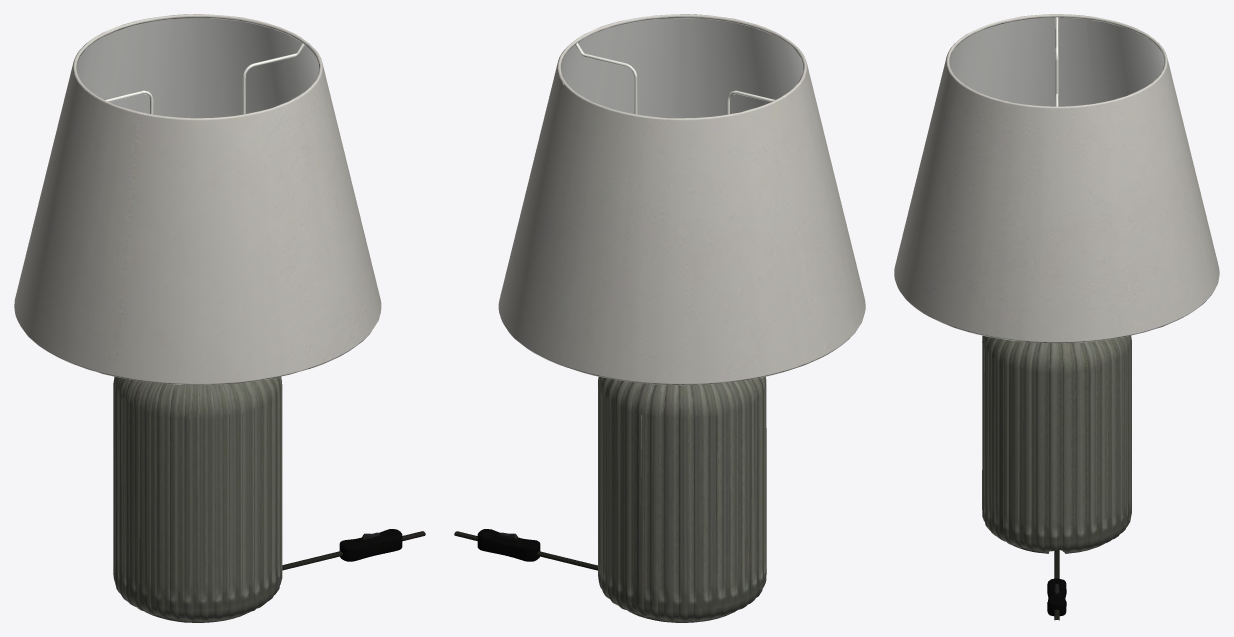
3 renders of one model, left to right at view 1: azimuth 30°, elevation 25°; view 2: azimuth 150°, elevation 25°; view 3: azimuth 270°, elevation 25°, orthographic. The views are drawn at different scales.
Parts seen in each view (by area): view 1: 50450401-SNÃƒâ€“BYAR001; view 2: 50450401-SNÃƒâ€“BYAR001; view 3: 50450401-SNÃƒâ€“BYAR001.
Boxes of the visible parts, left/top/right/bottom form: 50450401-SNÃƒâ€“BYAR001: left=14, top=14, right=425, bottom=622; 50450401-SNÃƒâ€“BYAR001: left=454, top=14, right=865, bottom=622; 50450401-SNÃƒâ€“BYAR001: left=894, top=14, right=1219, bottom=620.
Size of the model in its own units: 0.4 by 0.5252 by 0.33.
1 material, 1 textured.
